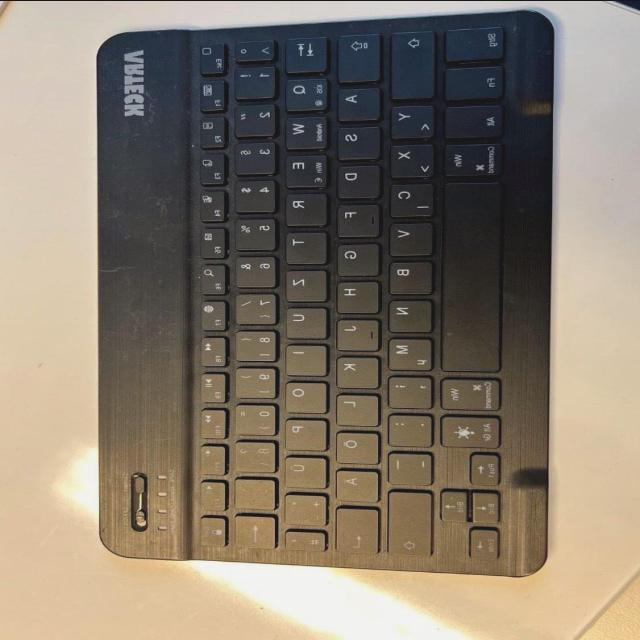0: (232, 401, 276, 435)
1: (231, 64, 276, 98)
2: (231, 102, 276, 136)
3: (231, 139, 276, 173)
4: (231, 178, 276, 212)
5: (232, 215, 276, 249)
6: (232, 254, 276, 287)
7: (234, 291, 276, 323)
8: (234, 328, 276, 360)
9: (232, 364, 276, 398)
a: (334, 86, 381, 120)
accent: (231, 476, 275, 508)
ae: (332, 467, 379, 502)
alt-left: (441, 103, 507, 139)
altgr-right: (439, 412, 503, 447)
b: (385, 258, 432, 294)
c: (386, 181, 434, 217)
caret: (233, 38, 275, 60)
comma: (385, 373, 432, 407)
d: (334, 162, 381, 197)
del: (231, 513, 275, 549)
e: (282, 151, 328, 187)
enter: (331, 506, 378, 553)
f: (334, 201, 380, 236)
g: (334, 240, 380, 274)
h: (333, 278, 379, 312)
hash: (283, 527, 329, 551)
i: (282, 342, 327, 375)
j: (333, 316, 379, 349)
k: (332, 354, 379, 388)
keyboard: (187, 16, 520, 566)
l: (332, 392, 379, 425)
m: (384, 335, 432, 370)
minus: (386, 448, 432, 484)
n: (385, 297, 433, 331)
o: (282, 378, 327, 412)
oe: (332, 429, 379, 464)
p: (282, 416, 327, 450)
plus: (281, 491, 327, 524)
point: (385, 411, 432, 446)
q: (282, 75, 328, 111)
r: (281, 190, 328, 225)
s: (334, 123, 381, 159)
shift-left: (386, 29, 435, 98)
shift-lock: (334, 31, 381, 81)
shift-right: (384, 490, 432, 556)
space: (437, 180, 504, 370)
ss: (231, 439, 275, 472)
strg-left: (440, 25, 506, 63)
t: (282, 229, 327, 263)
tab: (282, 34, 327, 72)
u: (282, 304, 327, 338)
ue: (281, 453, 328, 487)
v: (385, 220, 433, 256)
w: (281, 114, 328, 149)
x: (387, 141, 435, 177)
y: (387, 103, 435, 138)
z: (282, 267, 327, 301)
